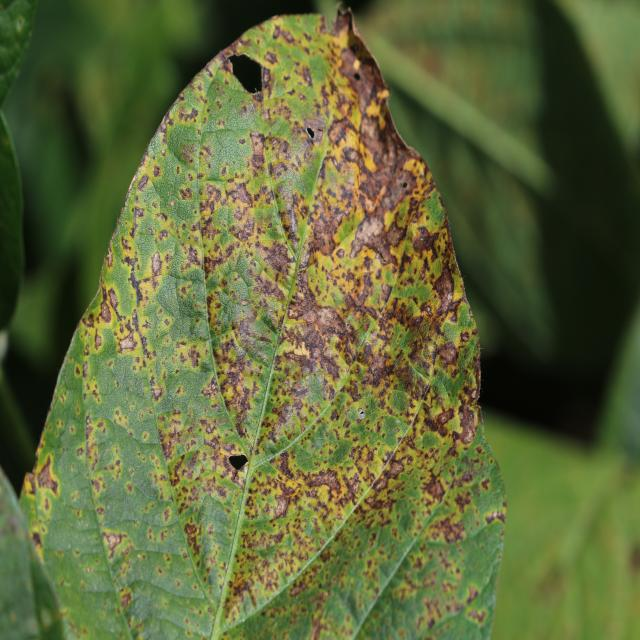Bacterial_Blight: (337, 29, 398, 147), (366, 442, 421, 501), (349, 206, 397, 263), (360, 336, 401, 393), (309, 201, 350, 257), (312, 304, 353, 348), (226, 51, 264, 97), (303, 465, 347, 504), (335, 4, 368, 46), (537, 559, 568, 601), (225, 182, 256, 219), (432, 264, 456, 309), (300, 116, 328, 153), (231, 443, 252, 486), (456, 402, 477, 442), (36, 457, 58, 494), (127, 263, 145, 306), (98, 286, 117, 324), (411, 225, 435, 254), (177, 452, 199, 480), (249, 130, 267, 161), (437, 340, 458, 366), (272, 492, 291, 518), (275, 456, 294, 480), (435, 407, 455, 428), (485, 508, 506, 527), (289, 579, 309, 598), (104, 532, 122, 553), (627, 544, 640, 572), (118, 334, 137, 352), (180, 143, 196, 164), (23, 471, 36, 496), (161, 438, 174, 459), (119, 589, 132, 609), (466, 584, 479, 603), (31, 531, 43, 549), (41, 609, 52, 628), (151, 385, 163, 401), (106, 246, 113, 268), (94, 332, 102, 349), (82, 360, 89, 379), (471, 386, 479, 400), (153, 164, 161, 177), (240, 298, 250, 307), (248, 441, 255, 453), (353, 71, 361, 81), (358, 409, 365, 419), (302, 363, 308, 372), (303, 320, 307, 330), (292, 383, 296, 389), (310, 418, 314, 424)
Soybean: (20, 10, 505, 640)
